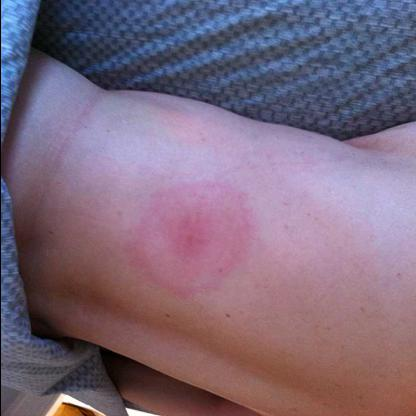Tick: (122, 180, 258, 302)
